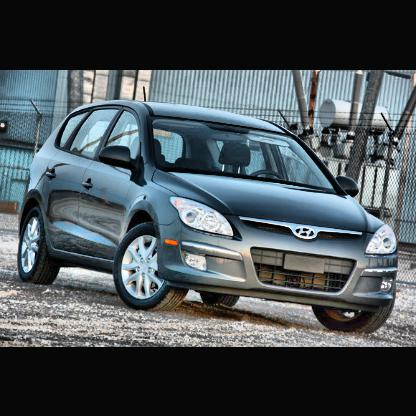Hyundai Elantra Touring Hatchback 2012: (19, 85, 402, 335)
